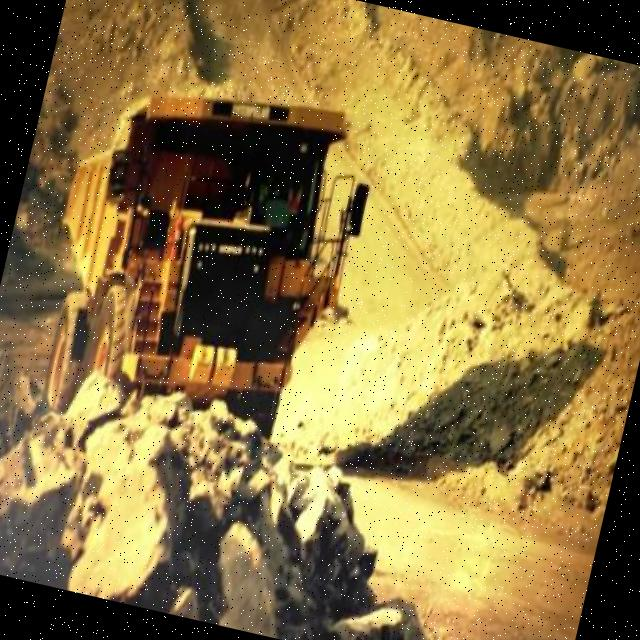Dump Truck: (13, 46, 389, 467)
